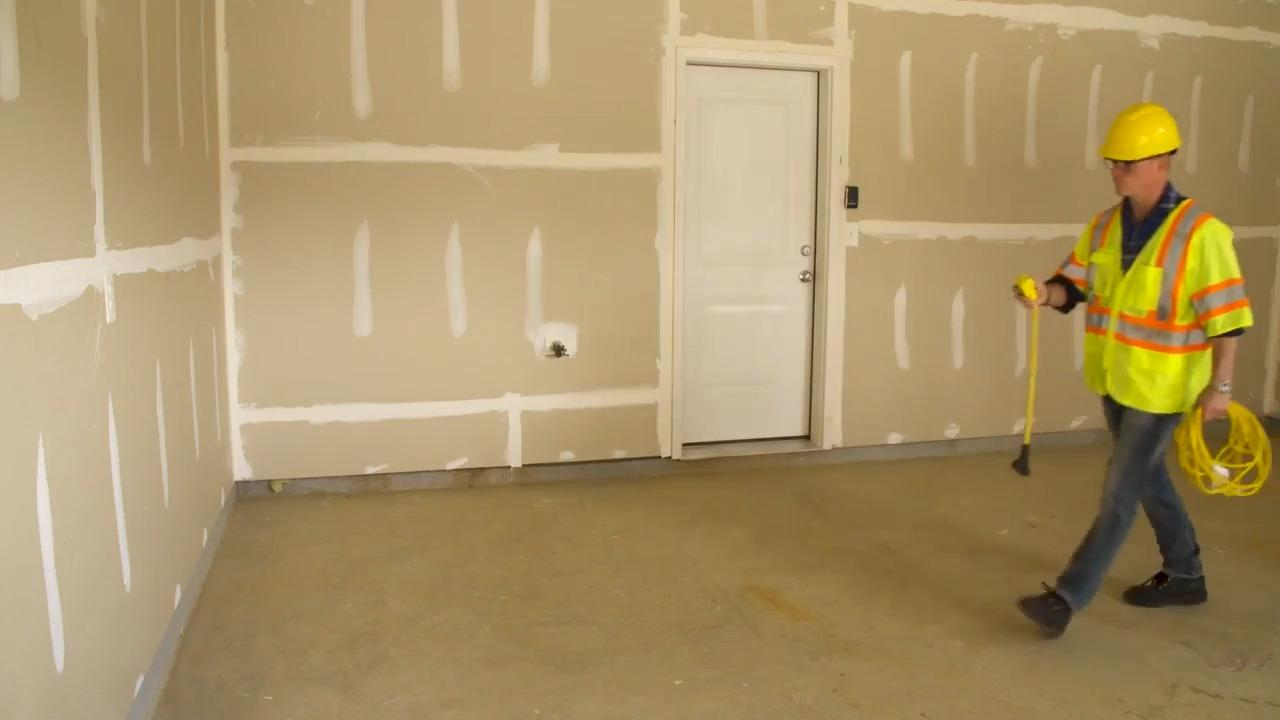Helmet: (1098, 96, 1186, 159)
Person: (1013, 96, 1254, 637)
Safety Boot: (1121, 569, 1207, 606), (1017, 581, 1072, 634)
Safety Vest: (1051, 193, 1253, 416)
bare-arms: (1008, 269, 1045, 308), (1198, 380, 1231, 421)
